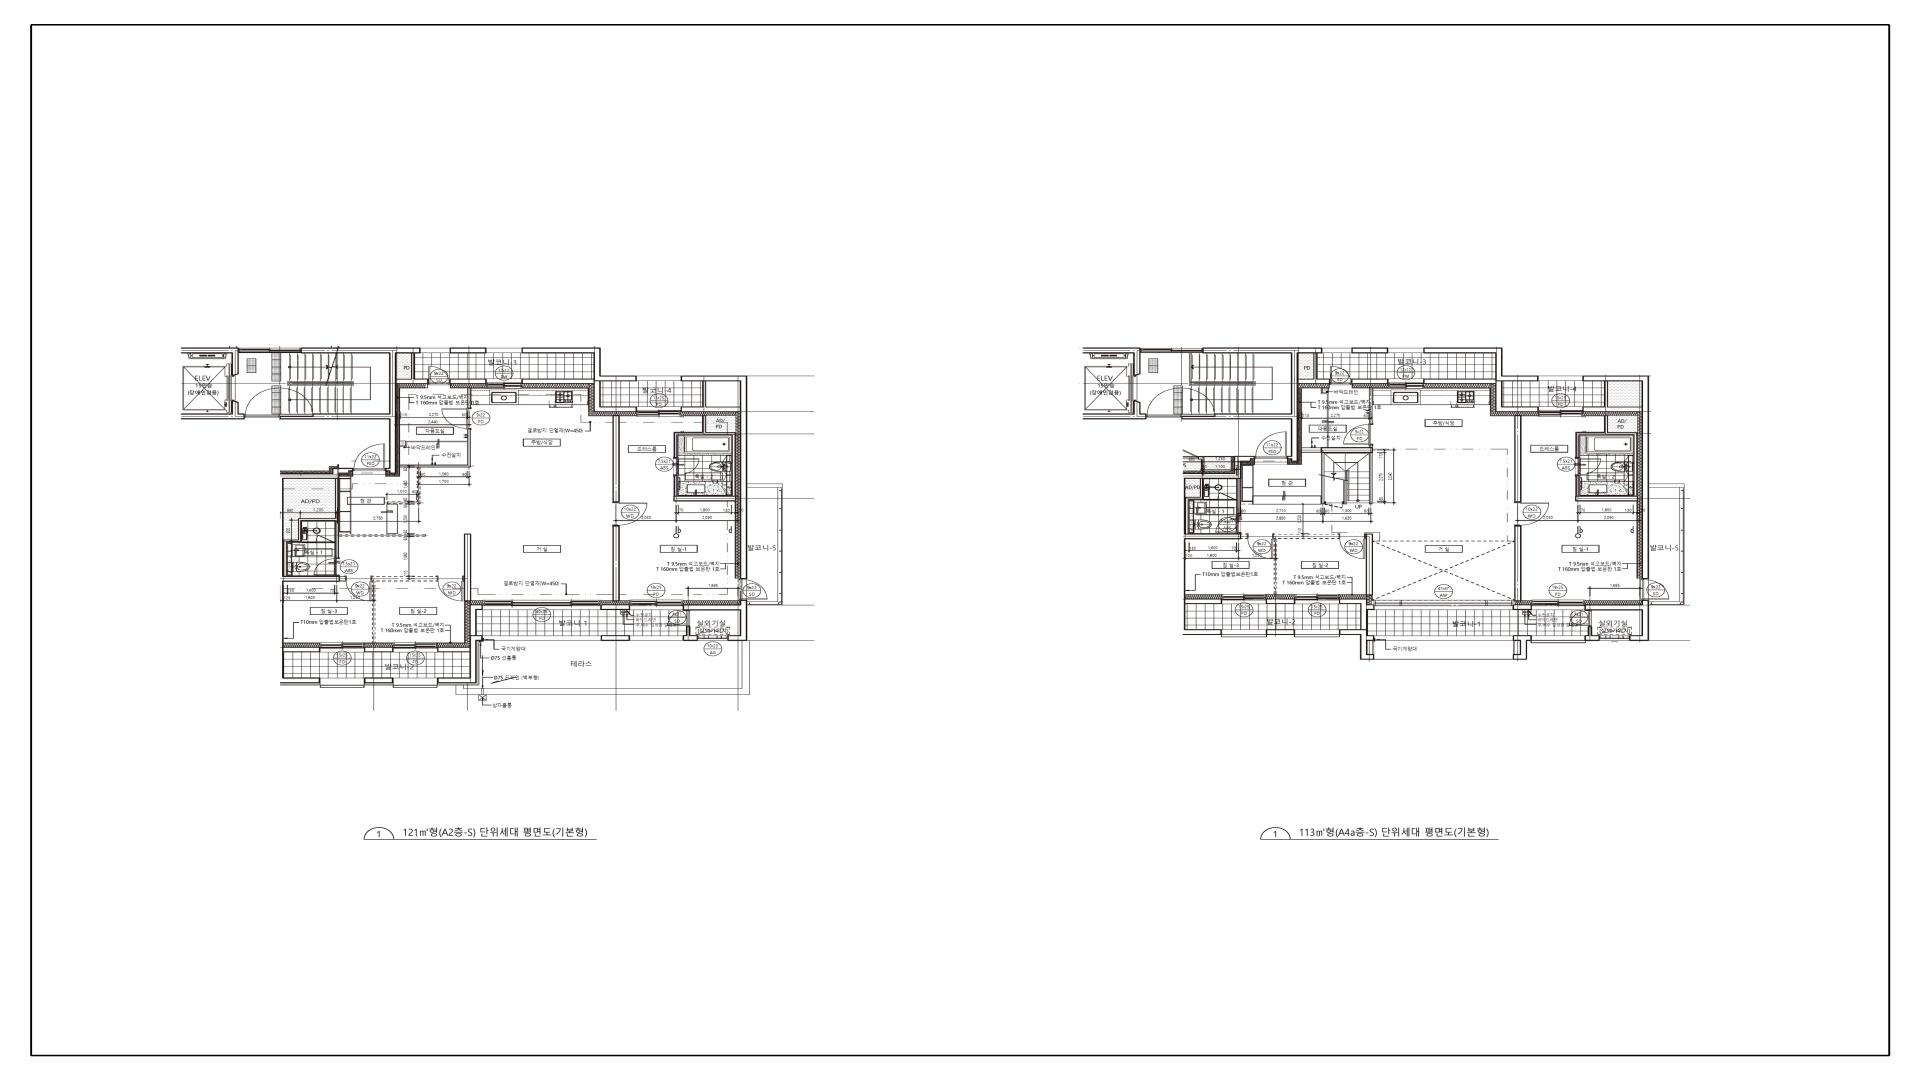door: (1146, 388, 1182, 418), (245, 388, 280, 418), (353, 443, 385, 472), (1255, 431, 1287, 459), (1514, 502, 1549, 526), (613, 502, 649, 526), (1338, 534, 1366, 559), (436, 576, 464, 601), (1342, 423, 1373, 446), (1247, 534, 1274, 559), (345, 576, 372, 601), (440, 407, 471, 429), (1642, 579, 1669, 600), (740, 579, 767, 600), (1215, 516, 1242, 534), (313, 558, 340, 576), (674, 458, 700, 476), (1576, 458, 1602, 476), (427, 365, 450, 385), (1329, 365, 1352, 385), (1568, 611, 1592, 626), (667, 611, 690, 626), (1217, 492, 1236, 501), (316, 534, 335, 543), (1324, 501, 1344, 509)
wall: (680, 376, 783, 641), (1582, 376, 1685, 641), (280, 347, 421, 473), (1182, 347, 1321, 462), (280, 468, 353, 683), (284, 479, 426, 576), (1183, 456, 1255, 636), (388, 429, 471, 505), (1576, 415, 1638, 501), (674, 415, 736, 501), (372, 576, 436, 644), (1302, 444, 1373, 505), (1424, 378, 1539, 413), (522, 378, 637, 413), (1274, 534, 1338, 595), (1424, 348, 1539, 381), (522, 348, 637, 381), (438, 636, 483, 683), (1582, 381, 1642, 413), (682, 381, 740, 413), (1185, 479, 1218, 534), (1083, 347, 1141, 377), (181, 348, 239, 376), (1083, 400, 1146, 419), (181, 401, 245, 419), (1340, 599, 1374, 629), (1340, 629, 1374, 659), (1298, 353, 1329, 384), (397, 353, 427, 384), (1514, 415, 1522, 502), (1514, 526, 1522, 601), (612, 526, 620, 601), (613, 415, 620, 502), (1513, 636, 1532, 659), (464, 534, 471, 601), (469, 604, 483, 636), (1366, 534, 1373, 596), (284, 646, 319, 653), (683, 626, 698, 641), (1585, 626, 1600, 641), (1236, 479, 1241, 516), (1352, 348, 1389, 353), (450, 348, 487, 353), (1266, 629, 1295, 636), (1352, 378, 1387, 384), (1185, 599, 1221, 604), (450, 378, 485, 384), (601, 604, 629, 611), (438, 647, 469, 653), (601, 636, 630, 641), (1266, 599, 1295, 604), (365, 678, 393, 683), (365, 647, 393, 653), (1369, 388, 1373, 423), (1514, 604, 1531, 611), (1344, 480, 1348, 505), (467, 388, 471, 407), (1241, 534, 1247, 539), (340, 576, 345, 582)
window: (1374, 600, 1514, 611), (483, 600, 601, 611), (1374, 636, 1513, 641), (483, 636, 601, 641), (1531, 600, 1585, 611), (629, 600, 683, 611), (319, 642, 365, 653), (319, 678, 365, 688), (1539, 406, 1584, 417), (637, 406, 682, 417), (393, 642, 438, 653), (393, 678, 438, 688), (1532, 636, 1585, 644), (1295, 595, 1340, 604), (1221, 595, 1266, 604), (1141, 347, 1203, 353), (239, 347, 301, 353), (1387, 378, 1424, 389), (485, 378, 522, 389), (1295, 629, 1340, 637), (1221, 629, 1266, 637), (630, 636, 683, 641), (1539, 376, 1582, 381), (637, 376, 680, 381), (1389, 348, 1424, 353), (487, 348, 522, 353), (1600, 636, 1630, 641), (1321, 348, 1352, 353), (698, 636, 728, 641), (421, 348, 450, 353)
